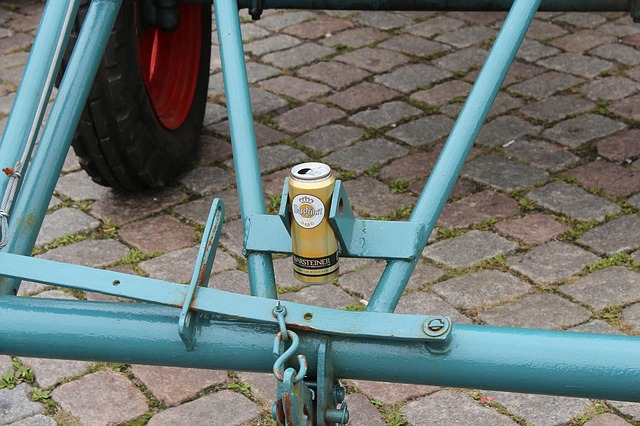can: (273, 150, 355, 289)
